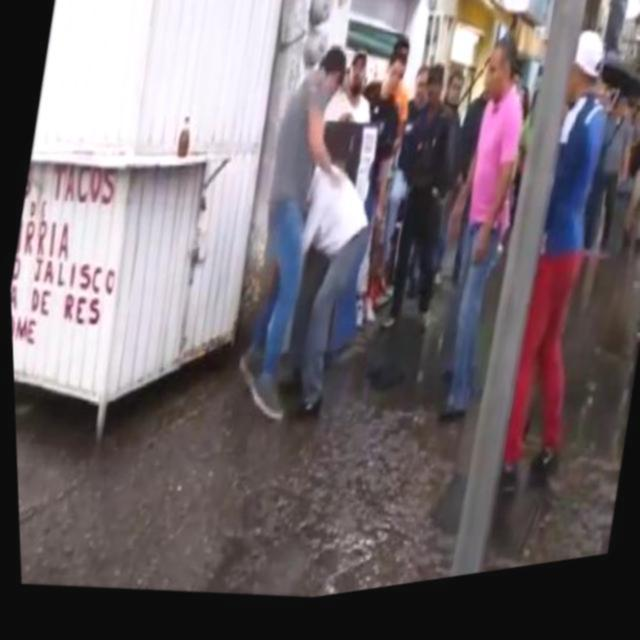fight: (218, 39, 405, 450)
